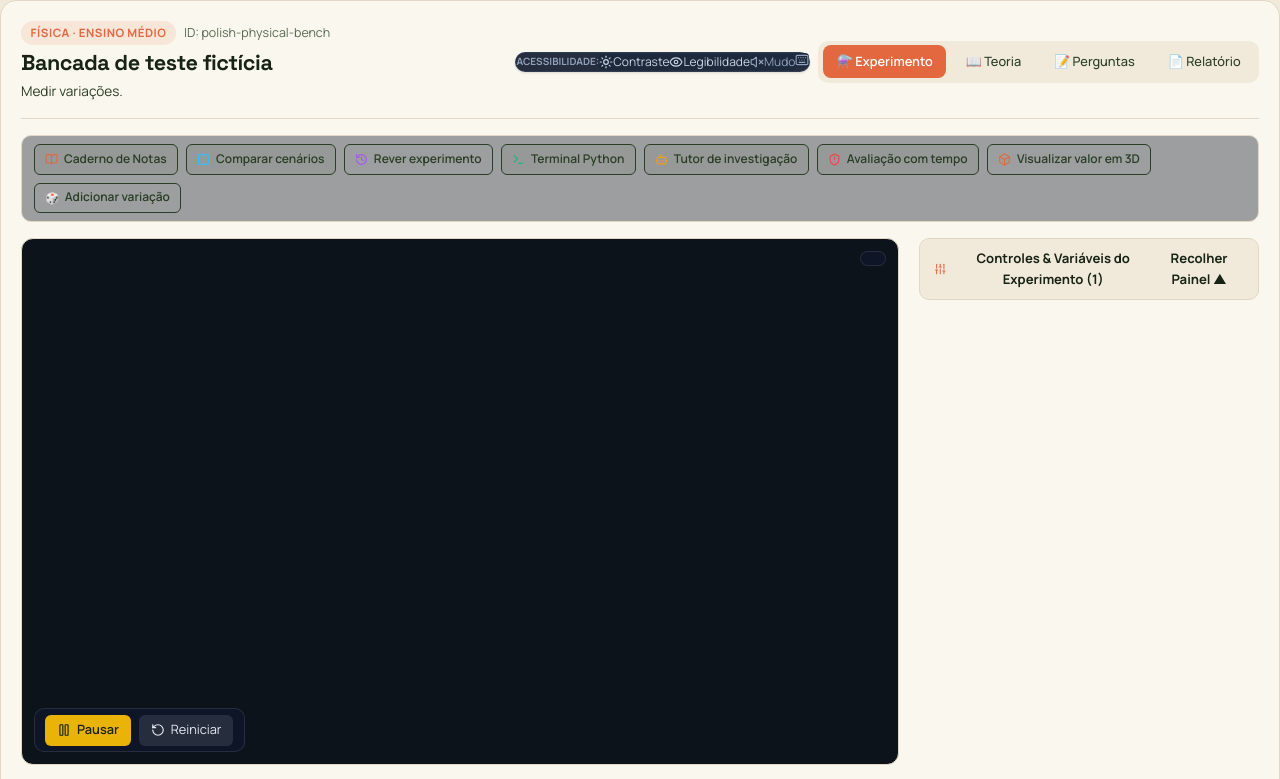
Scenario: Continuidade e sentido da bancada › o modo com tempo abre as perguntas e mantém a entrega pendente quando salvar falha
Step 1. Click the button "Avaliação com tempo" → click(898, 159), box 817,144 -> 979,174
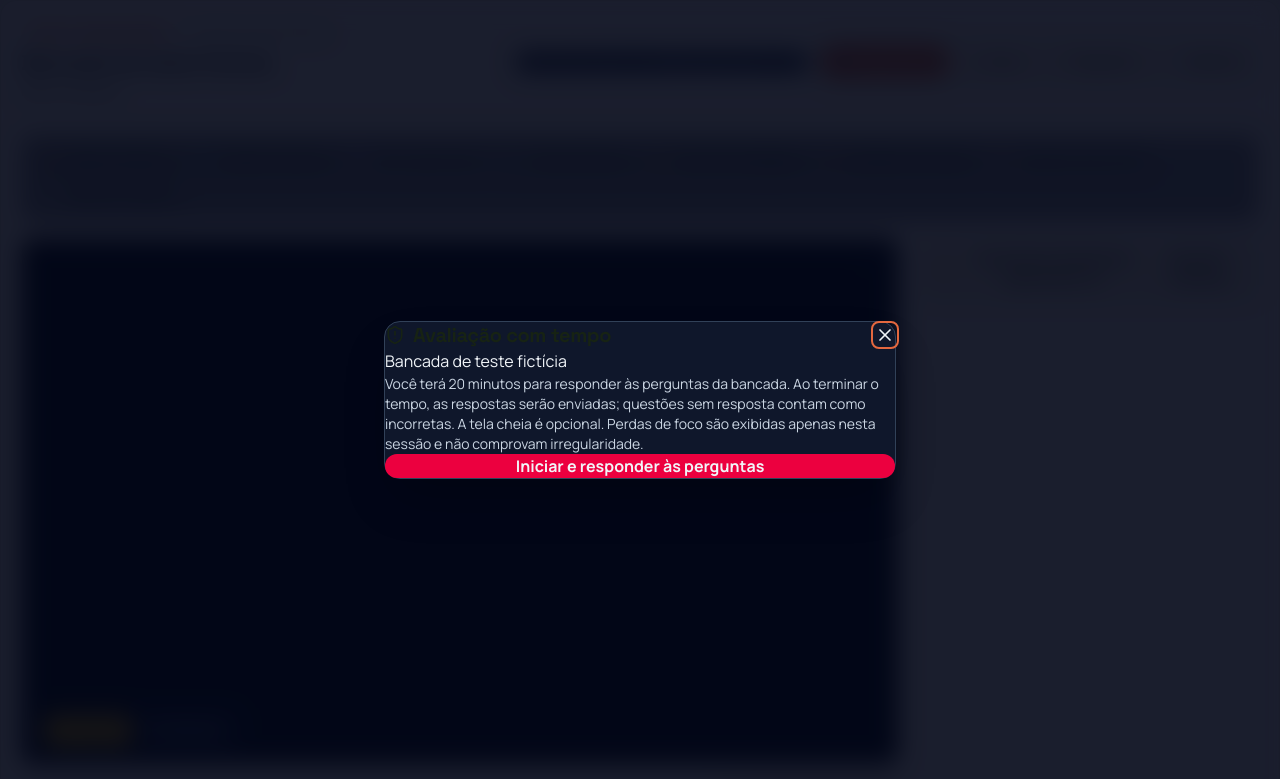
Step 2. Click the button "Iniciar e responder às perguntas" → click(640, 466), box 385,454 -> 895,478
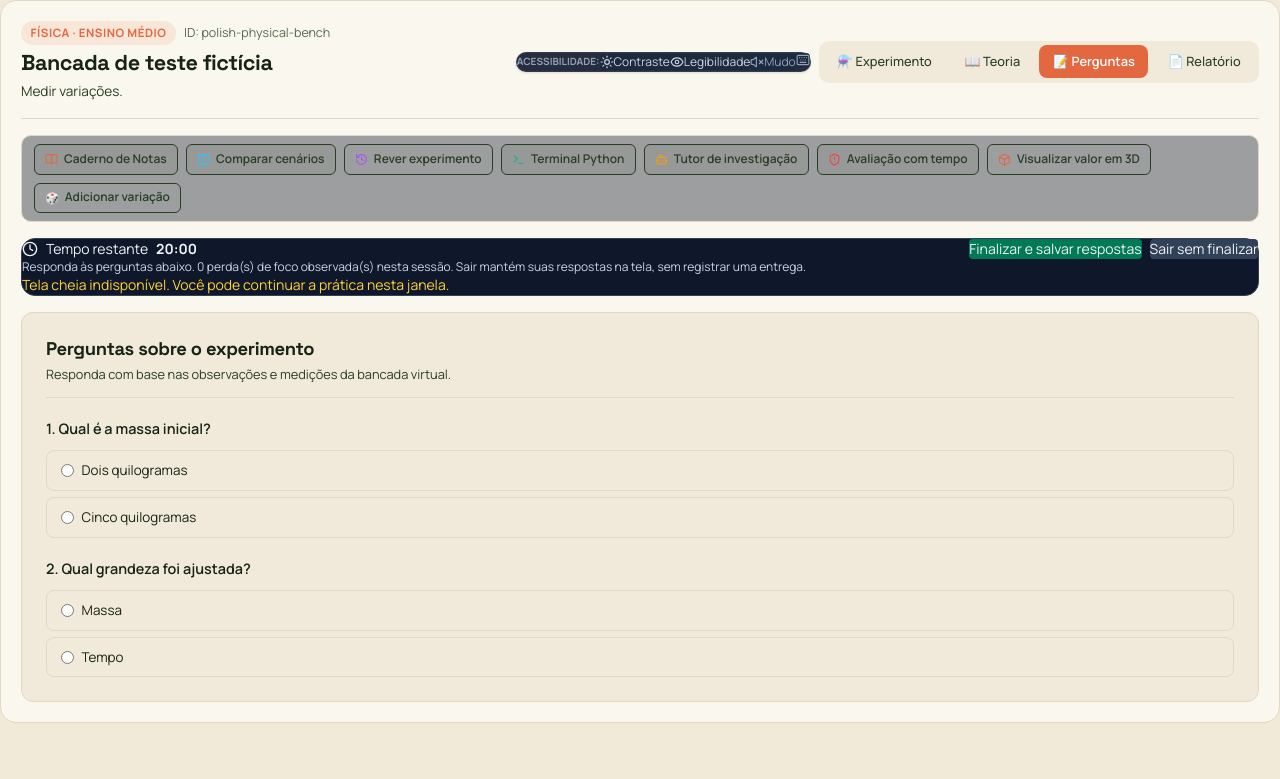
Expected: the element named "Sessão de avaliação com tempo" is shown, 21,238 -> 1259,296
Expected: the dialog is gone
Step 3. Click the radio button labelled "Dois quilogramas" → click(67, 470), box 61,464 -> 74,477
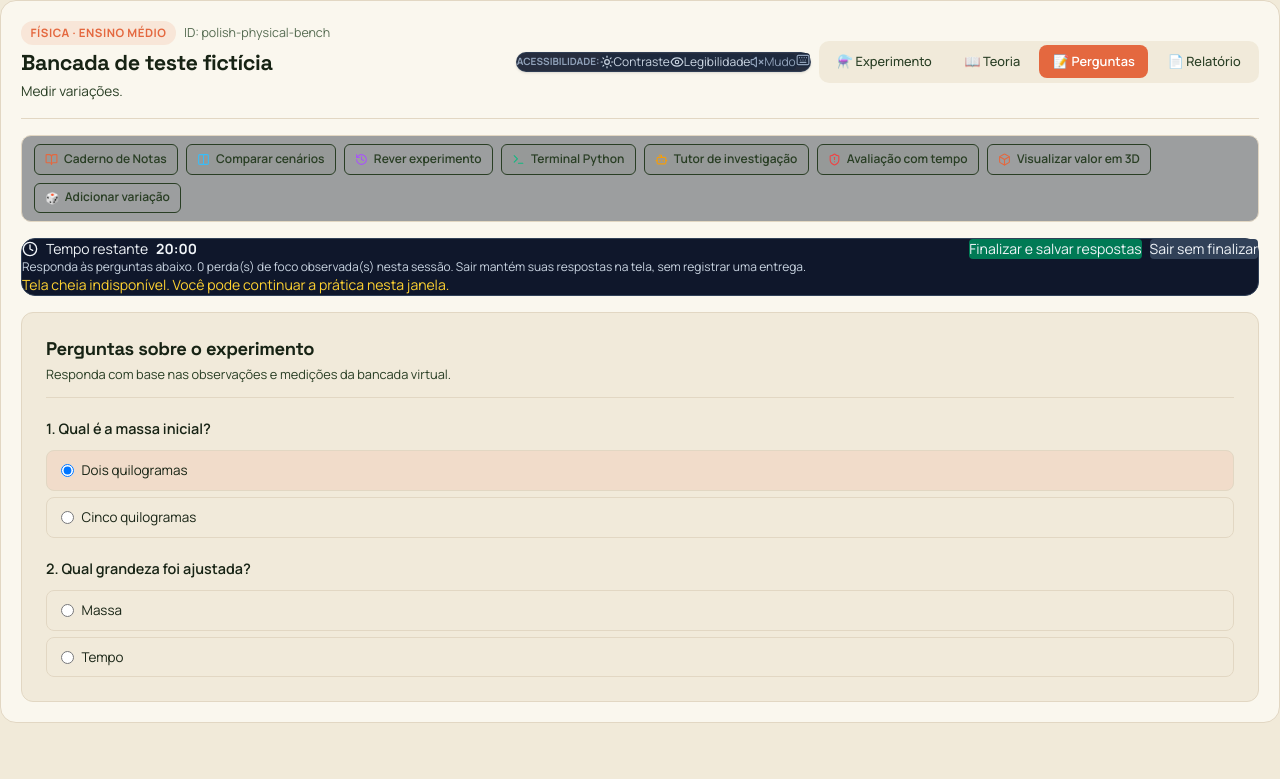
Step 4. Click the radio button labelled "Massa" → click(67, 610), box 61,604 -> 74,617
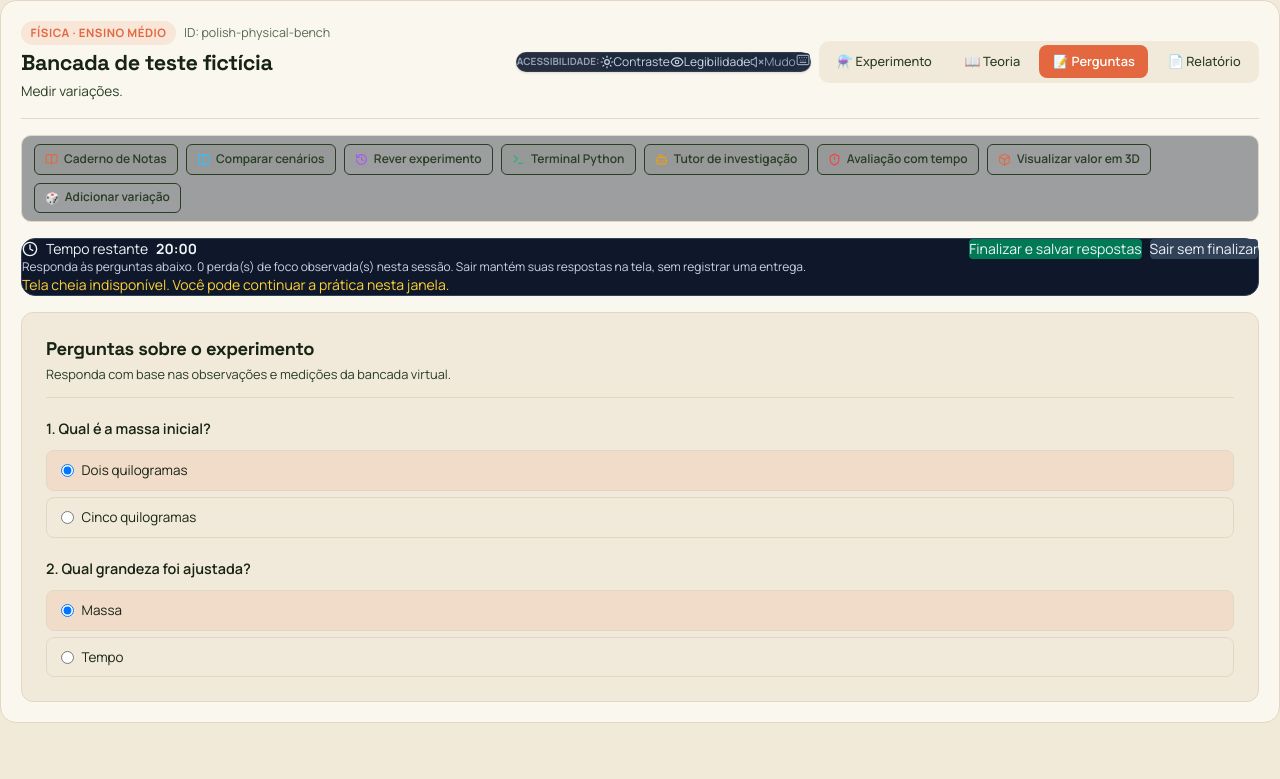
Step 5. Click the button "Finalizar e salvar respostas" → click(1055, 249), box 969,239 -> 1142,259
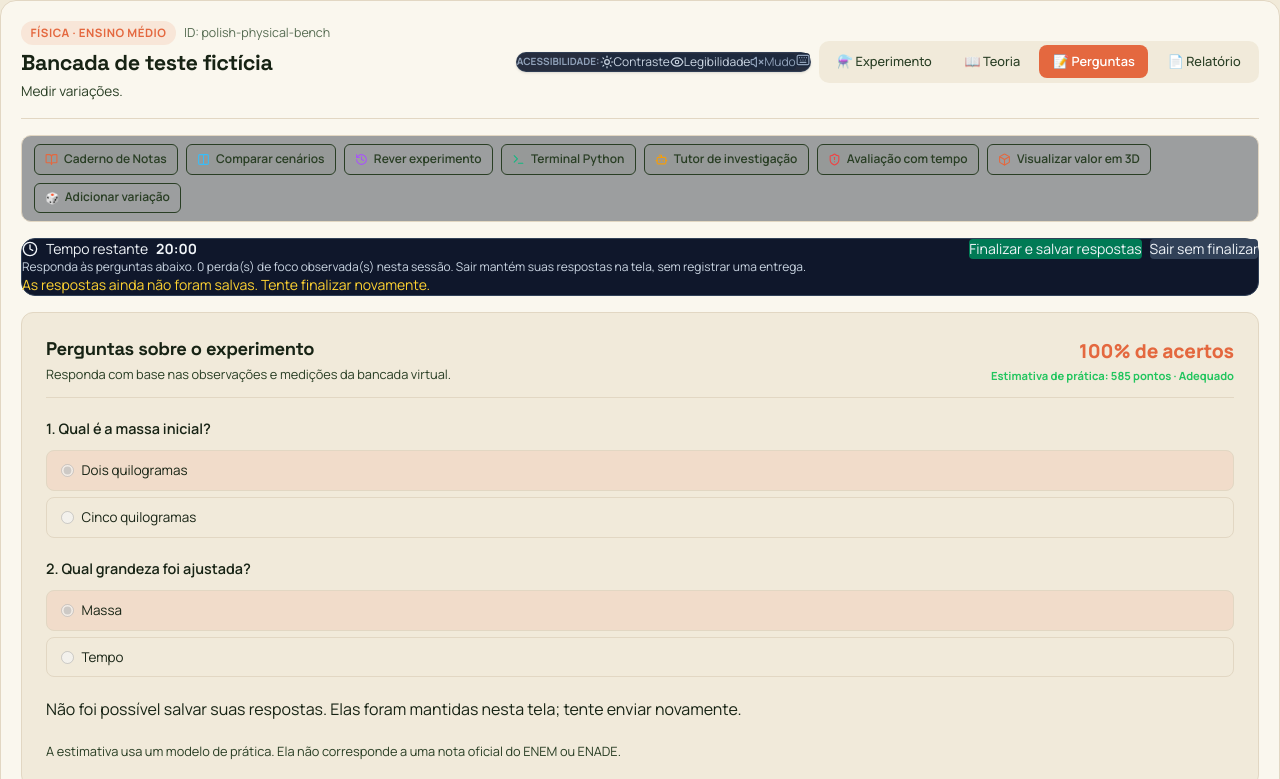
Expected: the text "20:00" is shown, 156,239 -> 197,259
Expected: the text "As respostas ainda não foram salvas. Tente finalizar novamente." is shown, 22,275 -> 430,294
